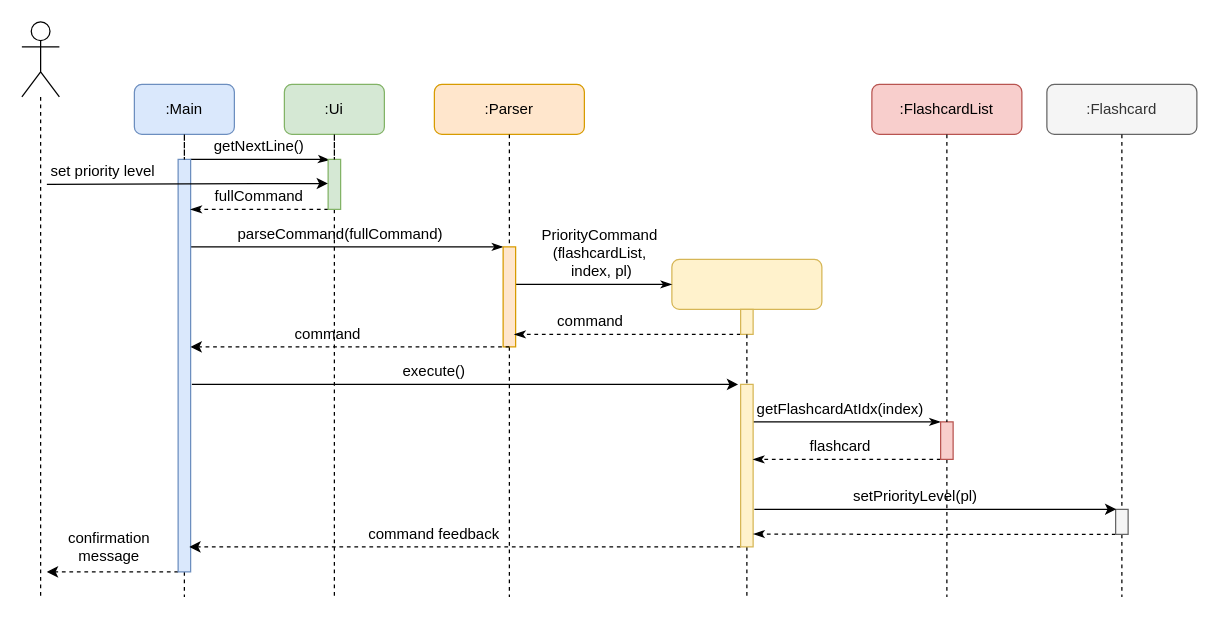
Image size: 1219x620. Some labels were removed from this diagram. Each missing label, with the box of its shape:
:PriorityCommand: (671, 258, 822, 309)
Actor: (21, 21, 59, 97)
